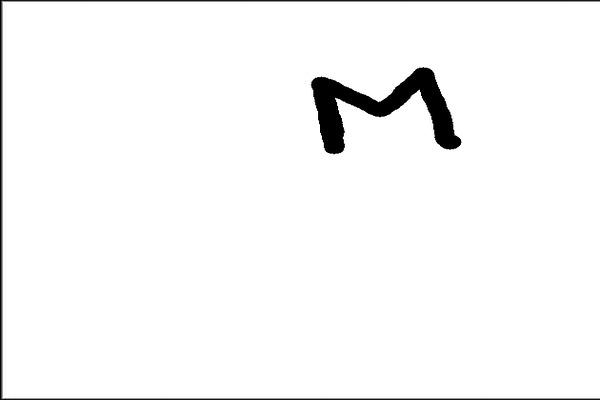M: (306, 65, 463, 154)
